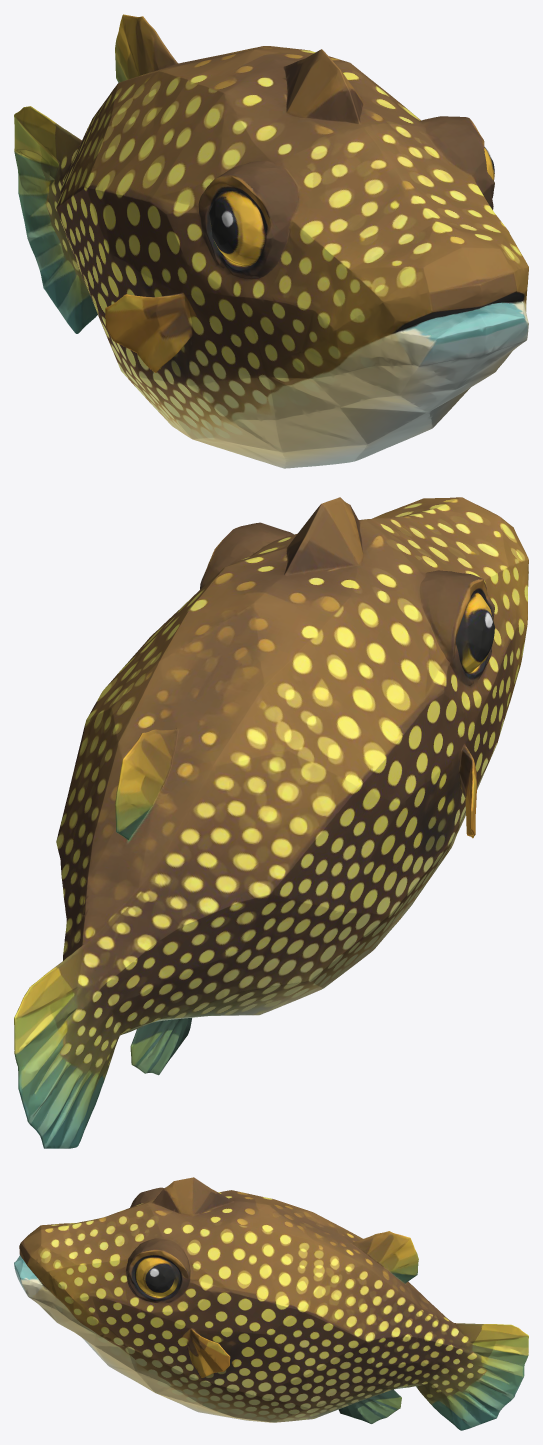
File: botete.glb
3 views of the same model, one above another, from view 1: azimuth 30°, elevation 25°; view 2: azimuth 150°, elevation 25°; view 3: azimuth 270°, elevation 25° (orthographic). The views are drawn at different scales.
Visible parts, largest first — view 1: tripo_node_e1b3f946-bb82-4b5e-9b24-ac85063bf559; view 2: tripo_node_e1b3f946-bb82-4b5e-9b24-ac85063bf559; view 3: tripo_node_e1b3f946-bb82-4b5e-9b24-ac85063bf559.
Boxes of the visible parts, bbox=[...] form: tripo_node_e1b3f946-bb82-4b5e-9b24-ac85063bf559: bbox=[14, 14, 528, 468]; tripo_node_e1b3f946-bb82-4b5e-9b24-ac85063bf559: bbox=[14, 497, 528, 1148]; tripo_node_e1b3f946-bb82-4b5e-9b24-ac85063bf559: bbox=[14, 1177, 528, 1430].
Size of the model in its own units: 0.4491 by 0.5427 by 1.
Materials: 1 (1 with a texture image).
